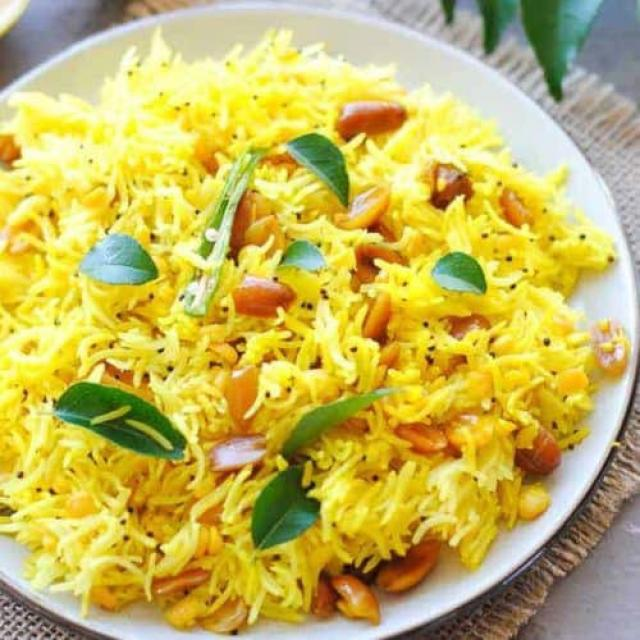lemon rice: (0, 9, 635, 640)
